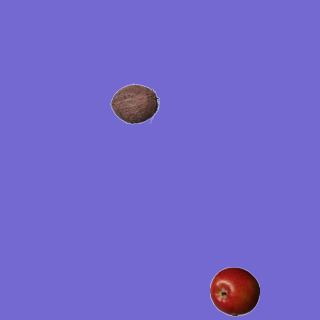Apple Braeburn: (209, 266, 259, 316)
Cocos: (109, 78, 159, 128)
